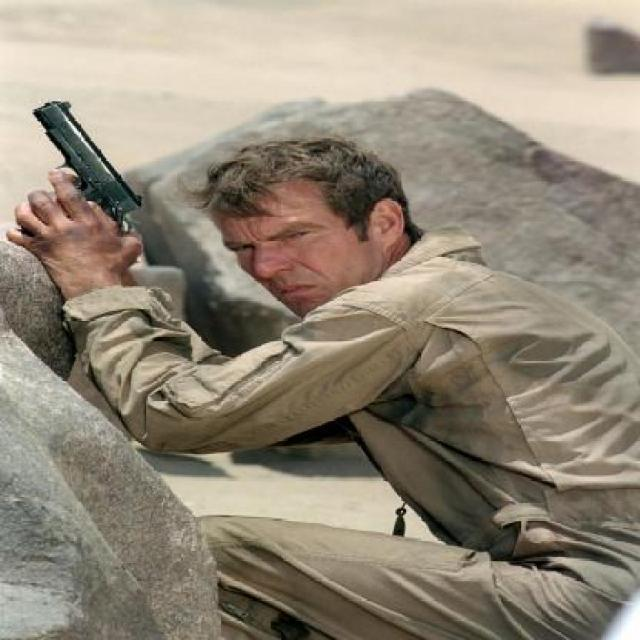gun: (4, 64, 161, 256)
